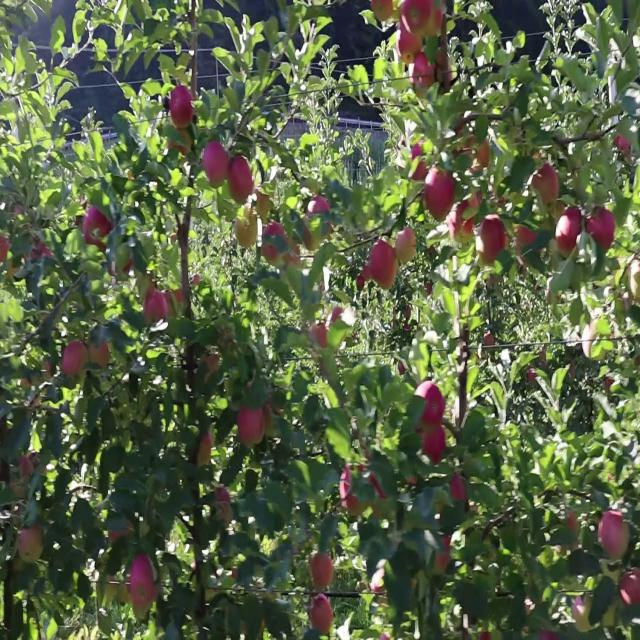apple: (598, 510, 631, 560), (425, 167, 454, 219), (369, 235, 397, 288), (302, 198, 332, 246), (528, 165, 559, 209), (479, 212, 506, 262), (414, 383, 444, 427), (130, 555, 155, 607), (400, 0, 437, 35), (585, 208, 616, 249), (555, 205, 582, 252), (339, 469, 365, 515), (203, 140, 227, 186), (169, 84, 194, 128), (262, 222, 286, 267), (229, 156, 253, 200), (238, 404, 264, 444), (308, 594, 334, 634), (234, 205, 258, 248), (84, 206, 110, 245), (62, 341, 86, 381), (17, 524, 43, 560), (88, 328, 110, 369), (396, 25, 421, 60), (310, 550, 333, 588), (10, 454, 32, 493), (420, 428, 445, 462), (449, 207, 472, 242), (620, 566, 640, 606), (145, 288, 166, 325), (396, 227, 417, 264), (412, 57, 433, 91), (370, 1, 392, 21), (311, 320, 325, 344), (451, 476, 465, 499)
